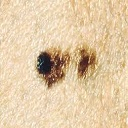Melanoma: (33, 49, 94, 79)
